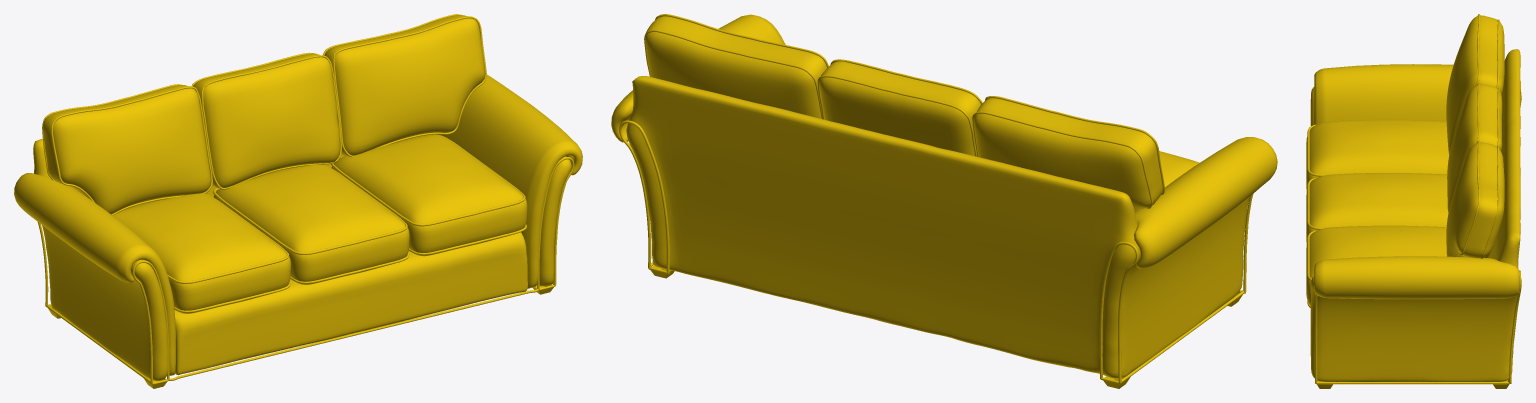
File: SofaSet_Gen_1_Couch.fbx
3 renders of one model, left to right at view 1: azimuth 30°, elevation 25°; view 2: azimuth 150°, elevation 25°; view 3: azimuth 270°, elevation 25°, orthographic. The views are drawn at different scales.
Visible parts, largest first — view 1: mesh_couch; view 2: mesh_couch; view 3: mesh_couch.
Boxes of the visible parts, <box> form: mesh_couch: <box>14,14,582,388</box>; mesh_couch: <box>611,14,1277,388</box>; mesh_couch: <box>1306,14,1521,388</box>.
Size of the model in its own units: 236 by 101 by 102.
